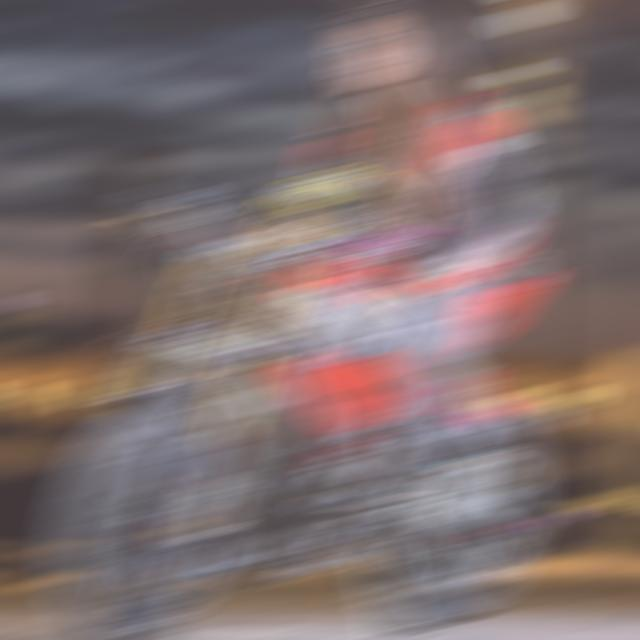Without Helmet: (319, 23, 457, 113)
